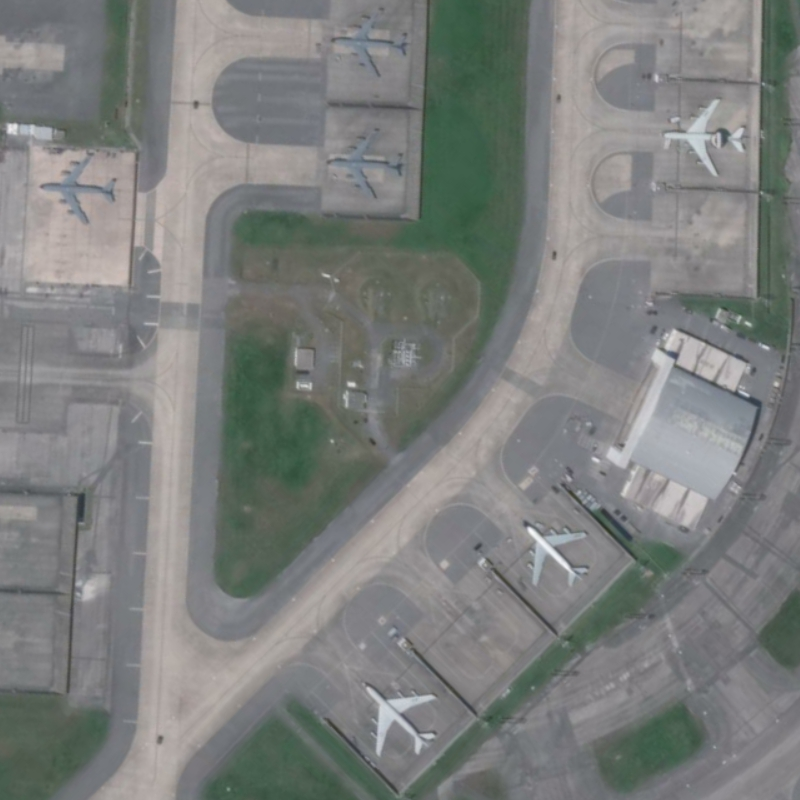A11: (356, 673, 445, 762), (515, 510, 596, 593)
A14: (319, 121, 410, 206), (35, 149, 125, 233), (321, 4, 415, 82)
A7: (657, 88, 752, 181)
